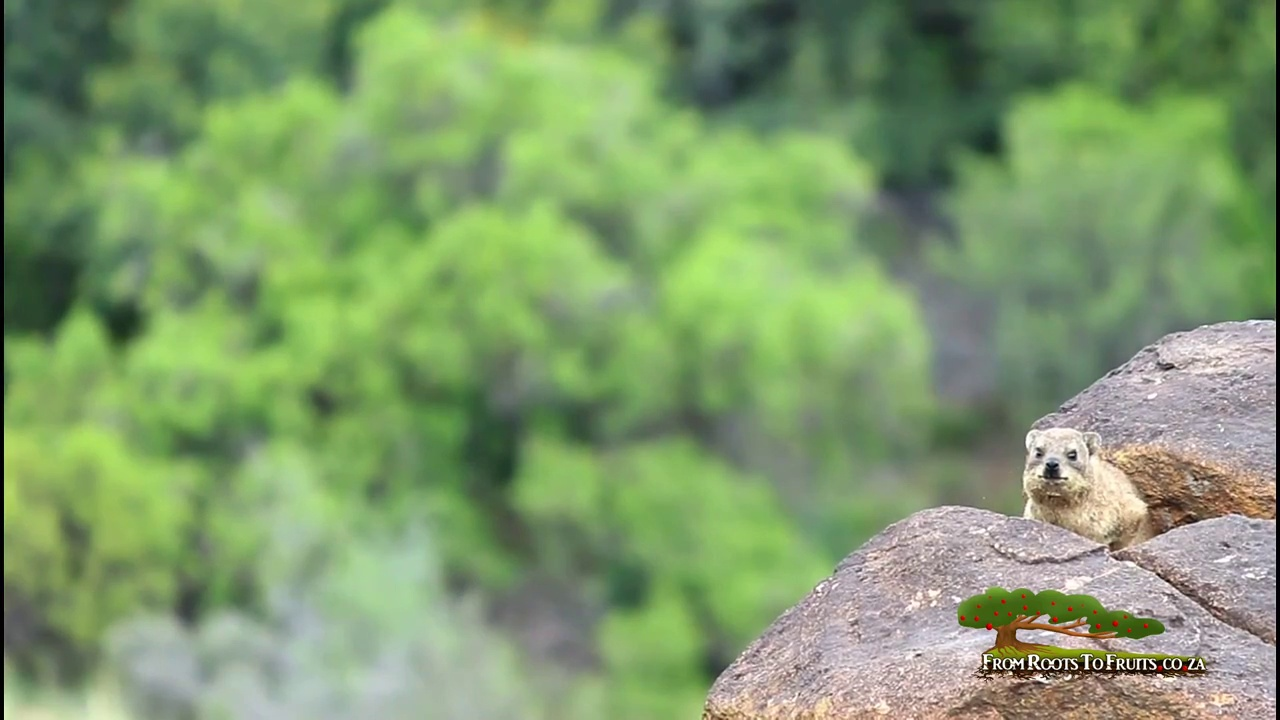Rock Hyrex: (1022, 426, 1160, 562)
